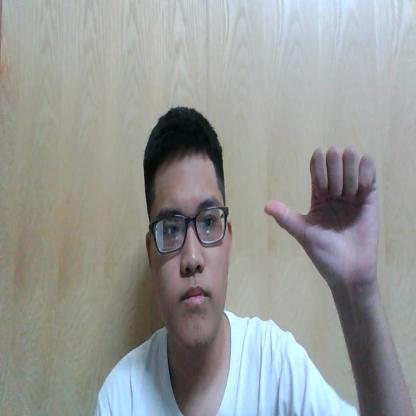right: (264, 146, 382, 280)
